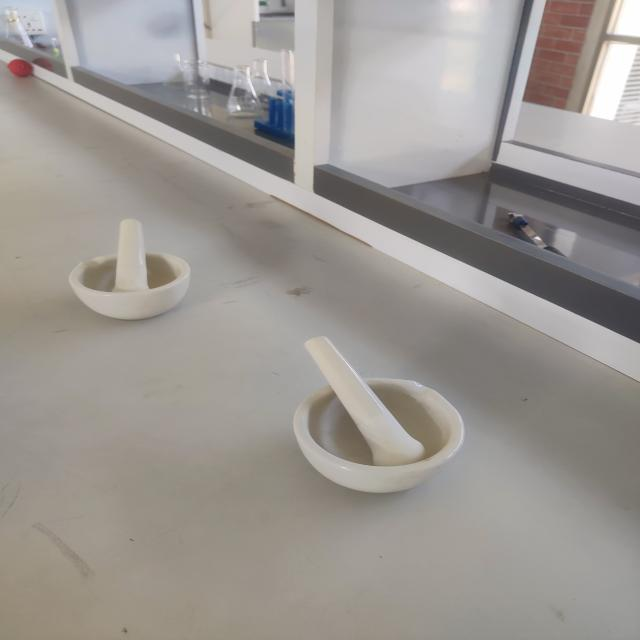Porcelain_Mortar Pestle: (257, 317, 495, 526), (56, 202, 207, 341)
